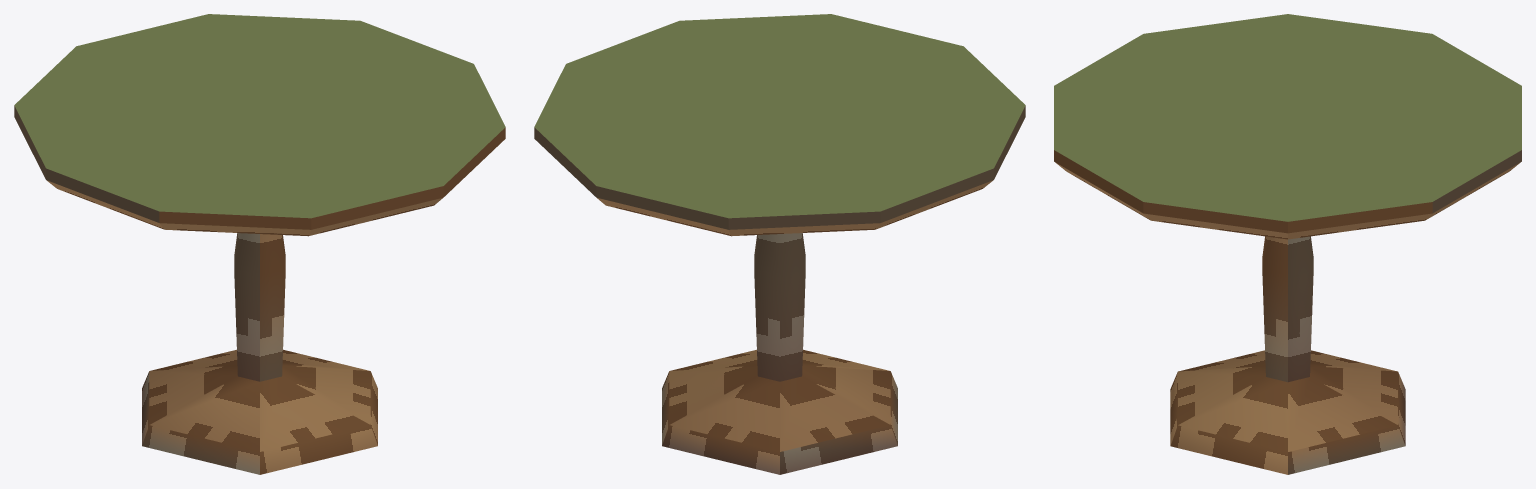
Rendered from wprop.table__card.glb.
The picture shows the model from 3 angles, left to right: view 1: azimuth 30°, elevation 25°; view 2: azimuth 150°, elevation 25°; view 3: azimuth 270°, elevation 25°; orthographic projection.
Parts seen in each view (by area): view 1: kit_top, kit_pedestal; view 2: kit_top, kit_pedestal; view 3: kit_top, kit_pedestal.
Boxes of the visible parts, x1,y1,x2,y2 form: kit_top: [14, 14, 505, 236]; kit_pedestal: [142, 233, 377, 474]; kit_top: [534, 14, 1025, 236]; kit_pedestal: [662, 233, 897, 474]; kit_top: [1054, 14, 1521, 239]; kit_pedestal: [1170, 236, 1405, 474].
Bounding box in the file's own units: 1.16 × 0.78 × 1.1.
Materials: 2 (2 with a texture image).
